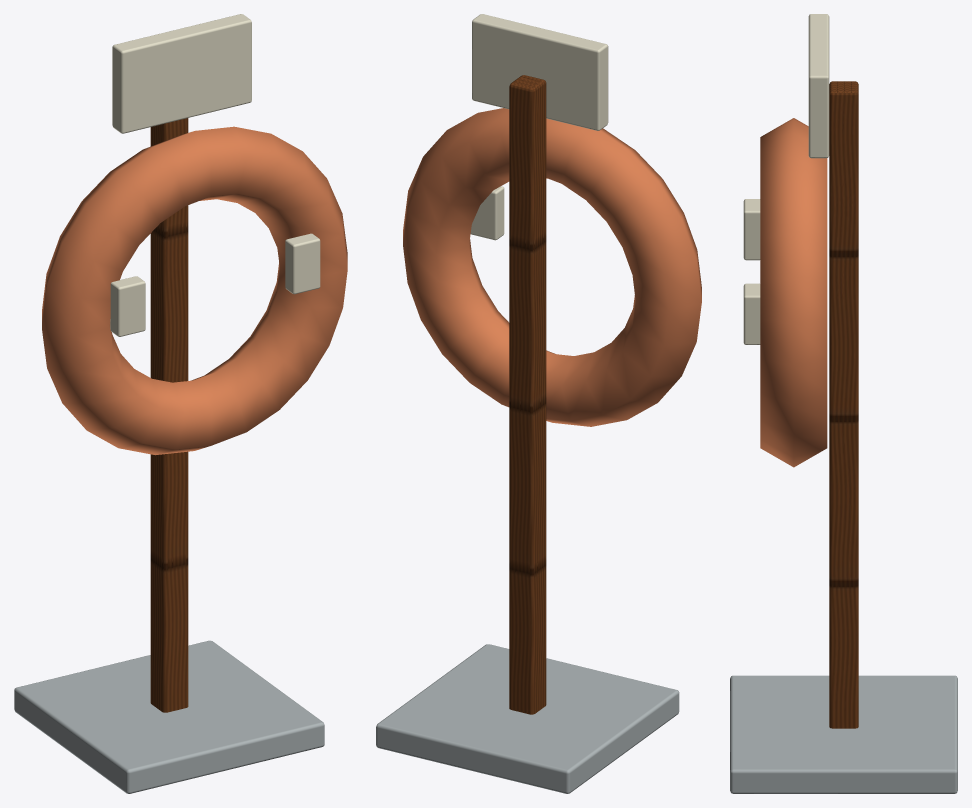
Rendered from flooded-and-coastal-survival-lifering-station-9c969c57__20069.glb.
The picture shows the model from 3 angles, left to right: view 1: azimuth 30°, elevation 25°; view 2: azimuth 150°, elevation 25°; view 3: azimuth 270°, elevation 25°; orthographic projection. The views are drawn at different scales.
Visible parts, largest first — view 1: lifering-station; view 2: lifering-station; view 3: lifering-station.
Boxes of the visible parts, x1,y1,x2,y2 form: lifering-station: (14, 14, 347, 793); lifering-station: (376, 14, 701, 793); lifering-station: (730, 14, 957, 793).
Size of the model in its own units: 0.77 by 1.7 by 0.5.
Materials: 4 (1 with a texture image).
